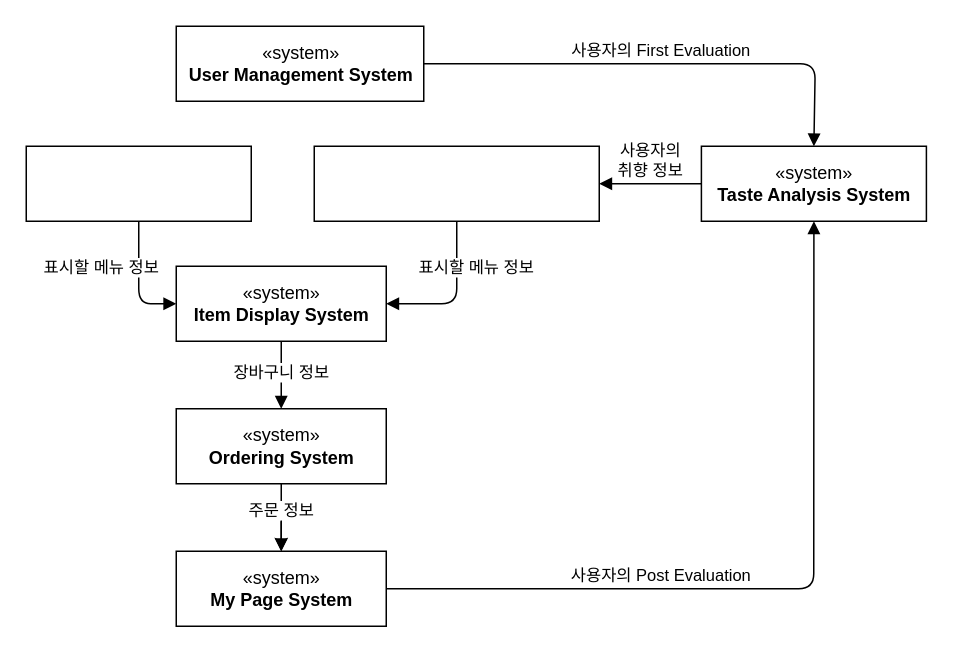
The diagram is 954 pixels wide and 653 high, and some of its shapes have lost their labels. Each missing label, with the centre of its shape:
"«system» Menu Recommendation System" belongs at pixel 456 183.
"«system» Searching System" belongs at pixel 138 183.
